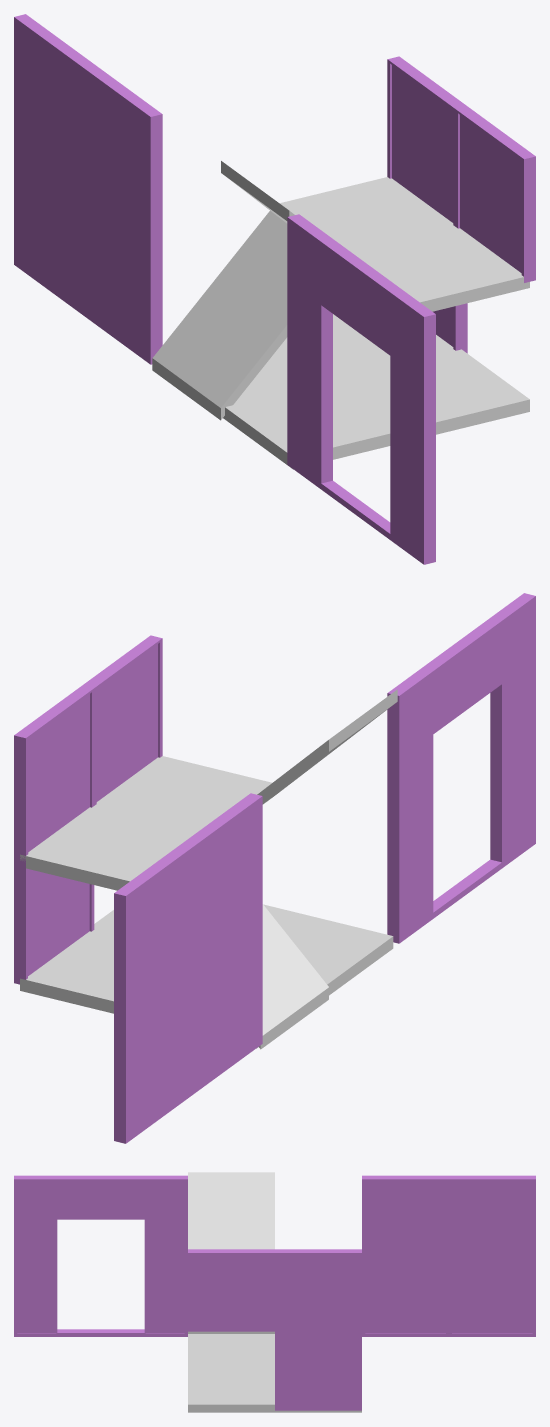
The model's file is Moduler.fbx.
The picture shows the model from 3 angles, top to bottom: view 1: azimuth 30°, elevation 25°; view 2: azimuth 150°, elevation 25°; view 3: azimuth 270°, elevation 25°; orthographic projection. The views are drawn at different scales.
Parts seen in each view (by area): view 1: Wall, Stairs, Doorway, HWall, Floor, QWall; view 2: Wall, Doorway, Stairs, HWall, Floor, QWall; view 3: Wall, Doorway, HWall, Floor, Stairs, QWall.
Part boxes in pixels (x1,y1,x2,y2): Wall: [14, 14, 162, 364]; Stairs: [152, 161, 529, 420]; Doorway: [287, 214, 435, 564]; HWall: [387, 56, 535, 282]; Floor: [223, 314, 529, 469]; QWall: [433, 303, 467, 353]; Wall: [114, 793, 262, 1143]; Doorway: [387, 593, 535, 943]; Stairs: [20, 689, 397, 1049]; HWall: [14, 635, 162, 861]; Floor: [20, 904, 393, 1048]; QWall: [14, 859, 94, 984]; Wall: [362, 1175, 535, 1336]; Doorway: [14, 1175, 187, 1336]; HWall: [188, 1249, 361, 1331]; Floor: [188, 1334, 361, 1412]; Stairs: [188, 1172, 274, 1333]; QWall: [275, 1331, 361, 1410].
Bounding box in the file's own units: 420 × 420 × 1200.
